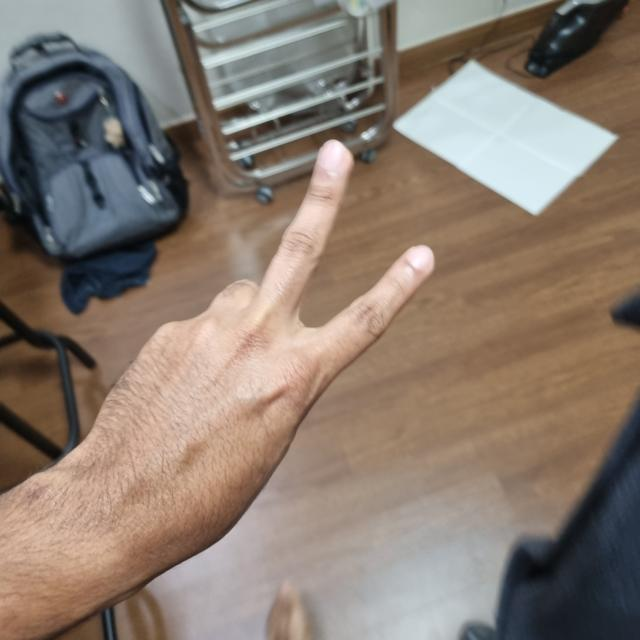Scissors: (59, 146, 433, 583)
